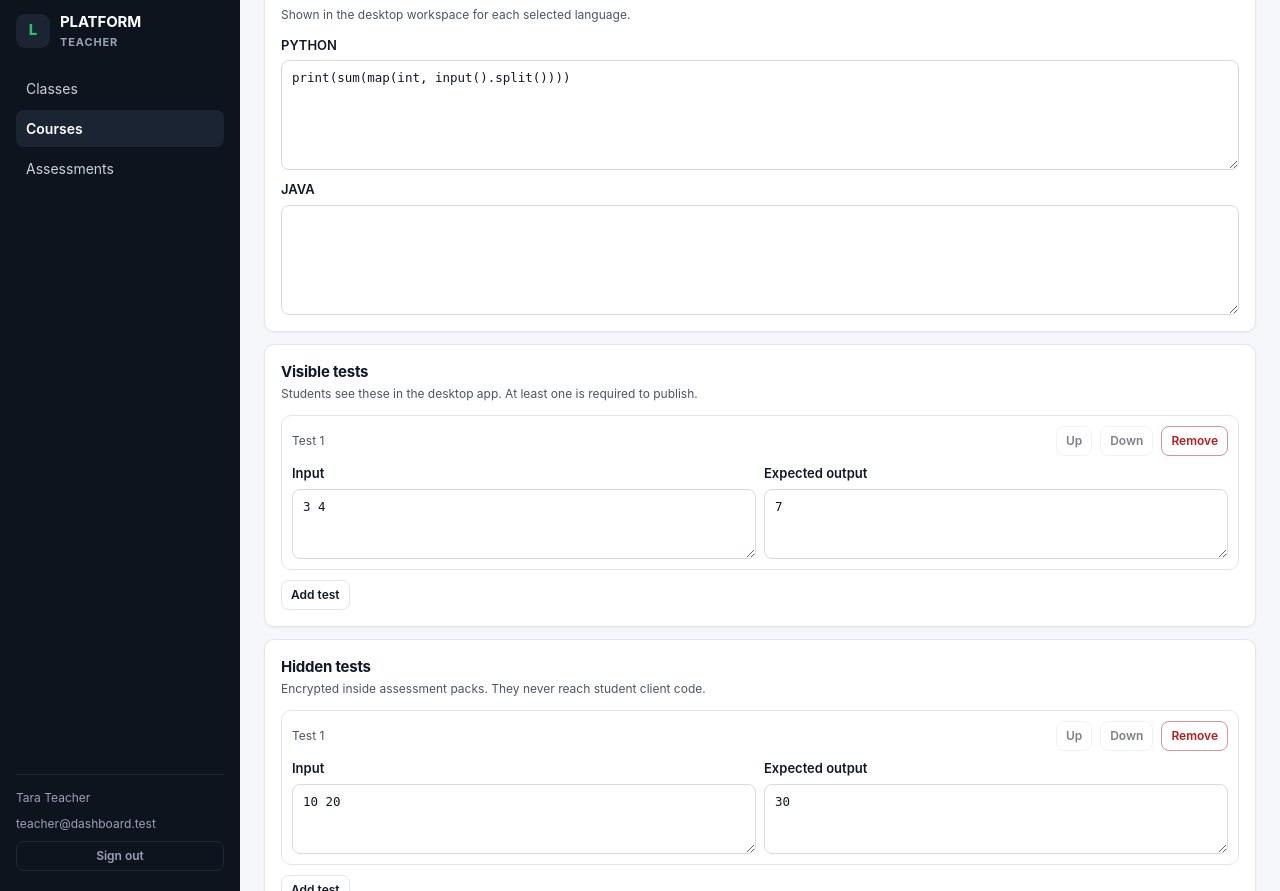
Test: teacher hidden-test editor › refuses to save with no visible tests
The width and height of the screenshot is (1280, 891).
(page scrolled)
Click the 1st button "Remove": (1195, 441) [1161, 426, 1228, 456]
(page scrolled)
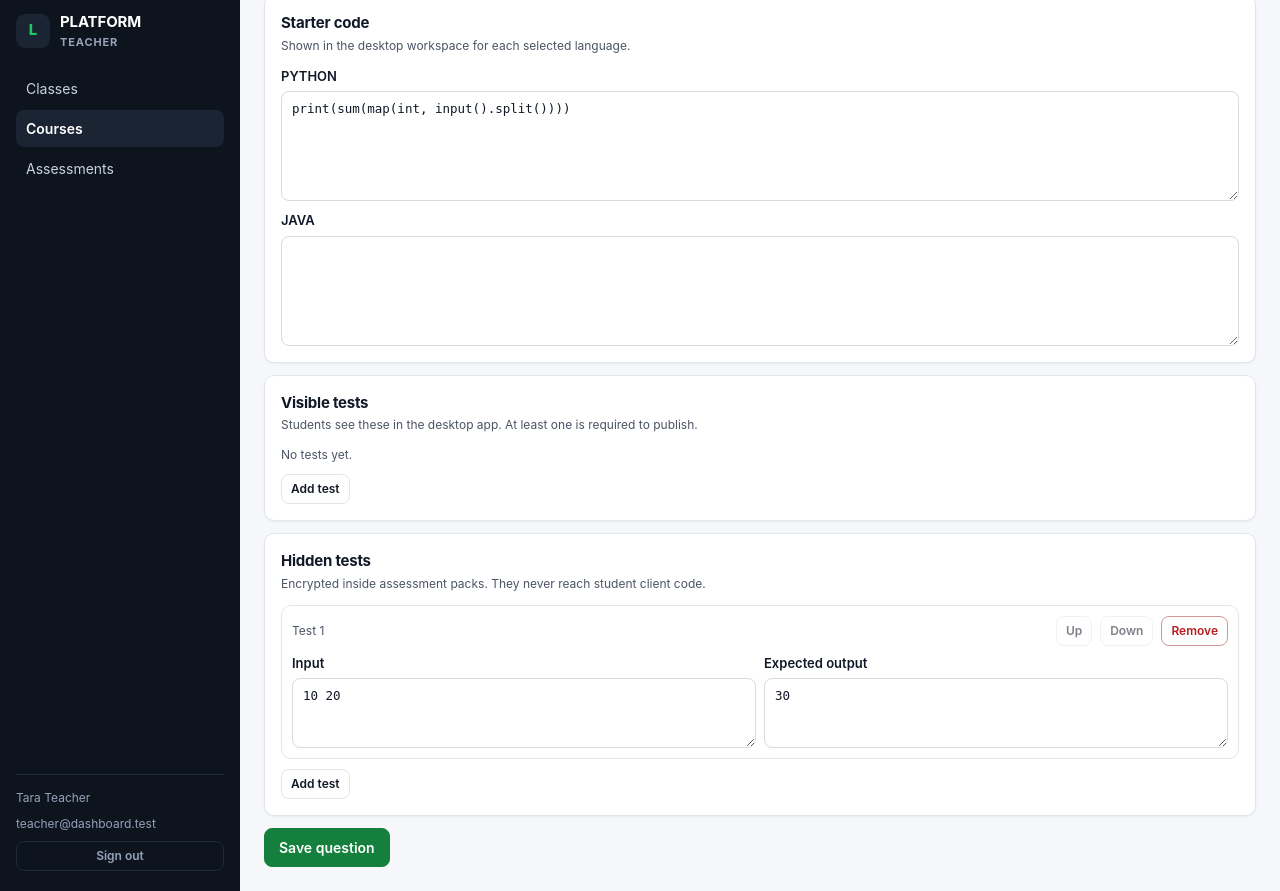
Click the button "Save question": (327, 848) [264, 828, 390, 867]
(page scrolled)
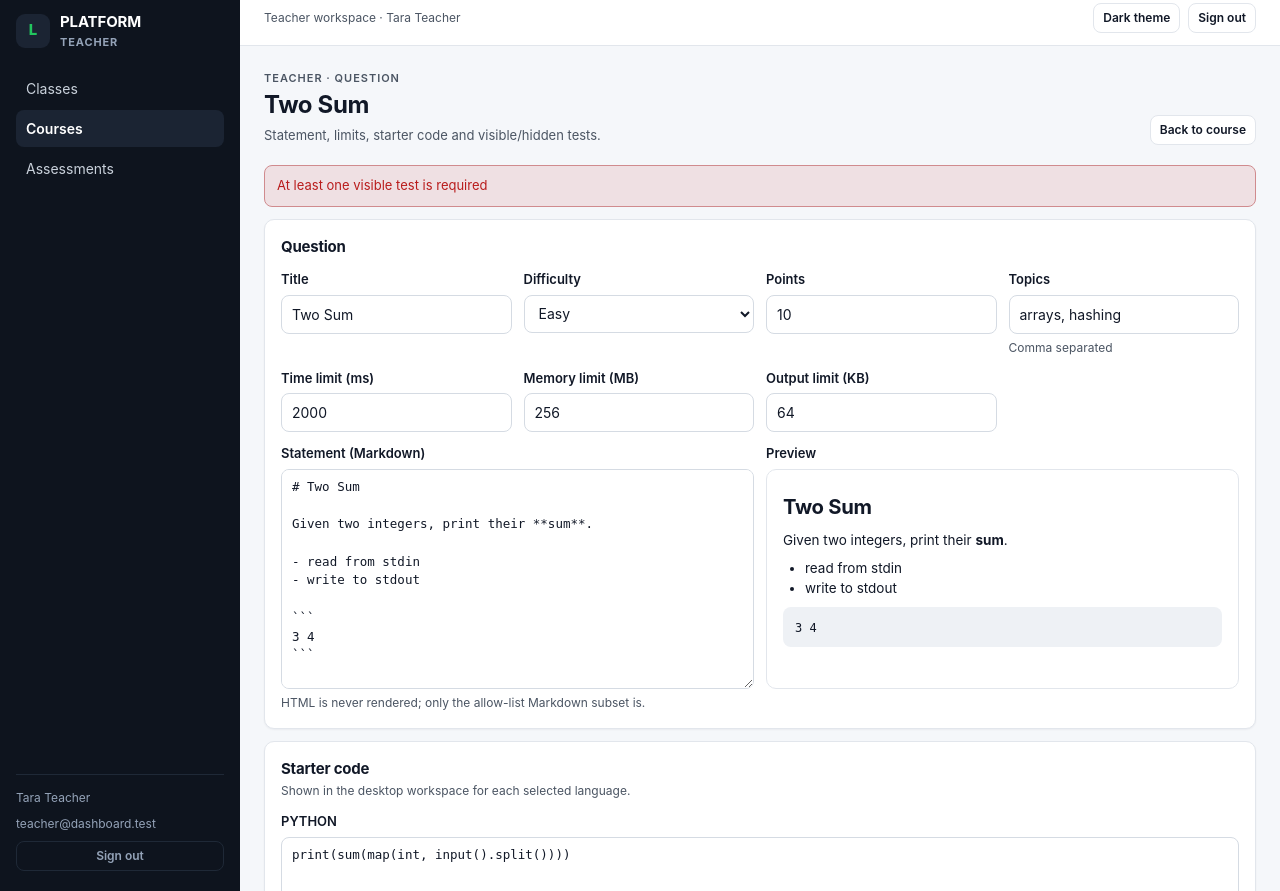
Check: the text "At least one visible test is required" is shown, box [264, 165, 1256, 206]
